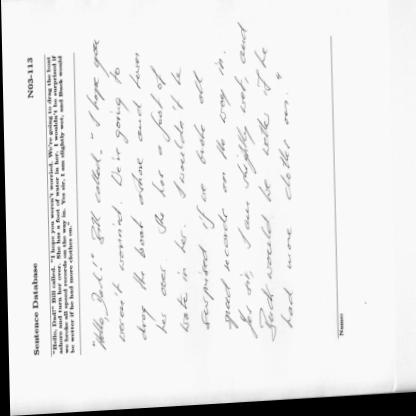Handwritten text: (73, 33, 112, 353), (123, 40, 153, 361), (246, 38, 276, 353), (229, 15, 256, 359), (145, 62, 174, 354), (186, 60, 216, 335), (213, 47, 239, 339), (108, 54, 131, 375), (270, 94, 297, 339), (171, 59, 193, 338)
